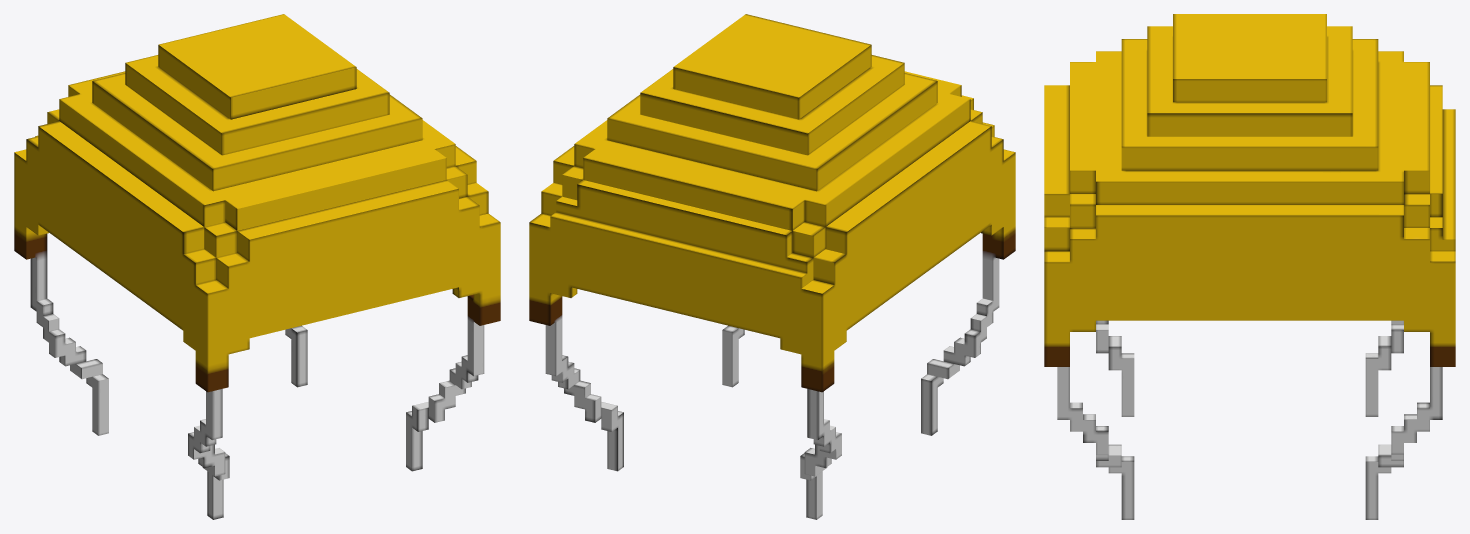
File: Boxwingv2-1.fbx
3 views of the same model, side by side, from view 1: azimuth 30°, elevation 25°; view 2: azimuth 150°, elevation 25°; view 3: azimuth 270°, elevation 25° (orthographic). The views are drawn at different scales.
Visible parts, largest first — view 1: Boxwingv2-1.001; view 2: Boxwingv2-1.001; view 3: Boxwingv2-1.001.
Part boxes in pixels (bbox=[...]): Boxwingv2-1.001: bbox=[14, 14, 500, 519]; Boxwingv2-1.001: bbox=[529, 14, 1015, 519]; Boxwingv2-1.001: bbox=[1044, 14, 1455, 519].
Size of the model in its own units: 56 by 72 by 64.
Materials: 1 (1 with a texture image).
